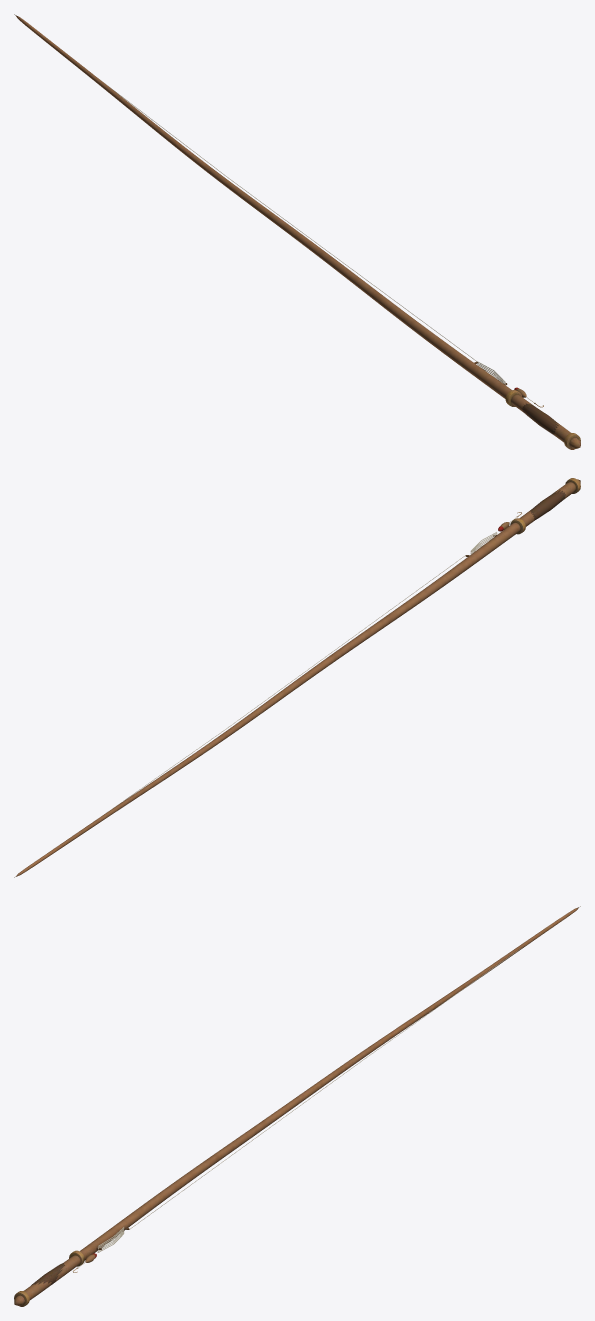
File: rod_juniper.glb
The picture shows the model from 3 angles, top to bottom: view 1: azimuth 30°, elevation 25°; view 2: azimuth 150°, elevation 25°; view 3: azimuth 330°, elevation 25°; orthographic projection. The views are drawn at different scales.
Visible parts, largest first — view 1: rod_juniper; view 2: rod_juniper; view 3: rod_juniper.
Part boxes in pixels (x1,y1,x2,y2): rod_juniper: [14, 14, 580, 449]; rod_juniper: [14, 478, 580, 877]; rod_juniper: [14, 906, 580, 1306].
Bounding box in the file's own units: 0.0833 × 0.045 × 3.19.
Materials: 1 (1 with a texture image).
